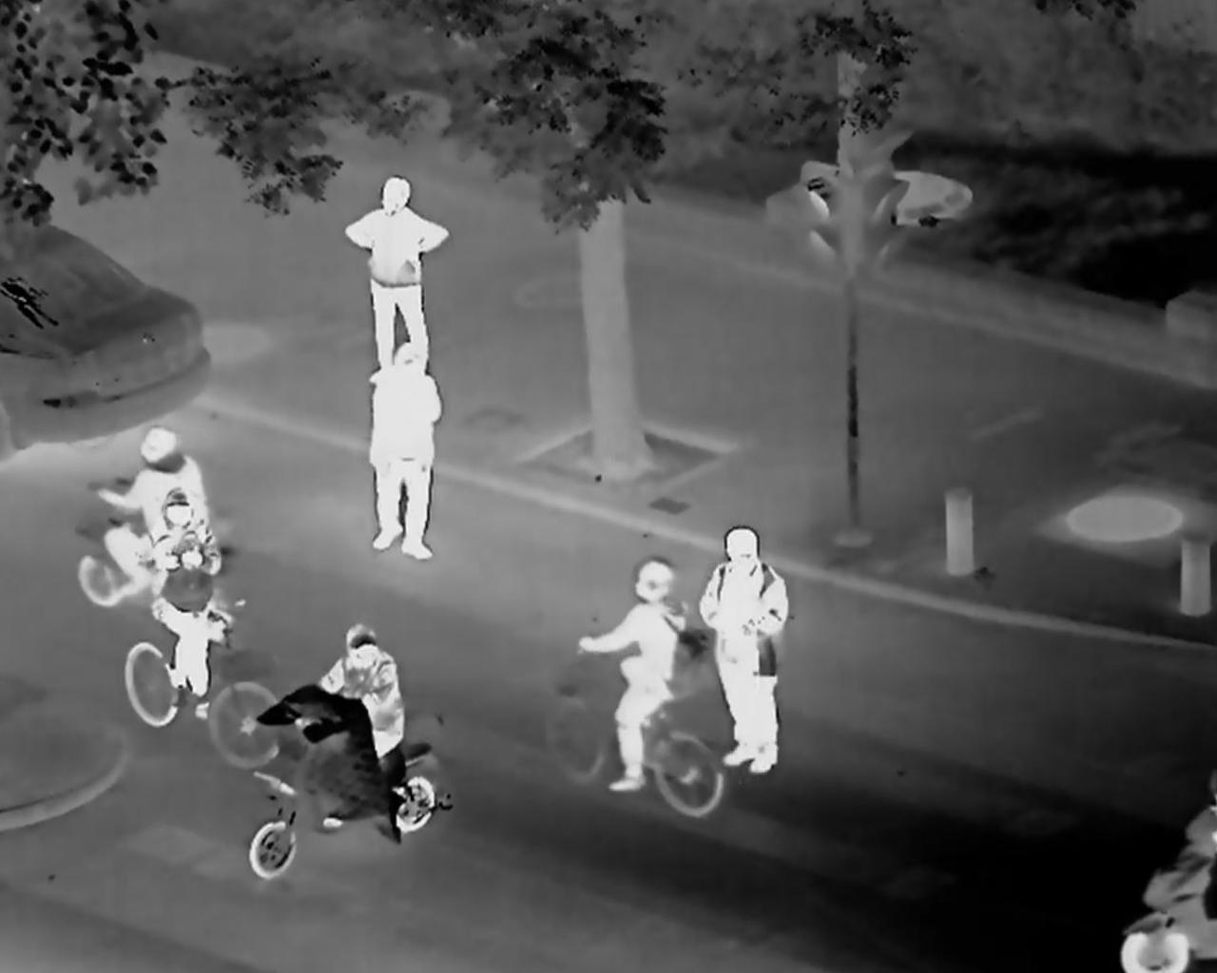person: (704, 523, 838, 757), (342, 162, 466, 361), (604, 536, 685, 832), (357, 365, 467, 561), (324, 626, 427, 807), (159, 507, 217, 690), (106, 418, 190, 534)
